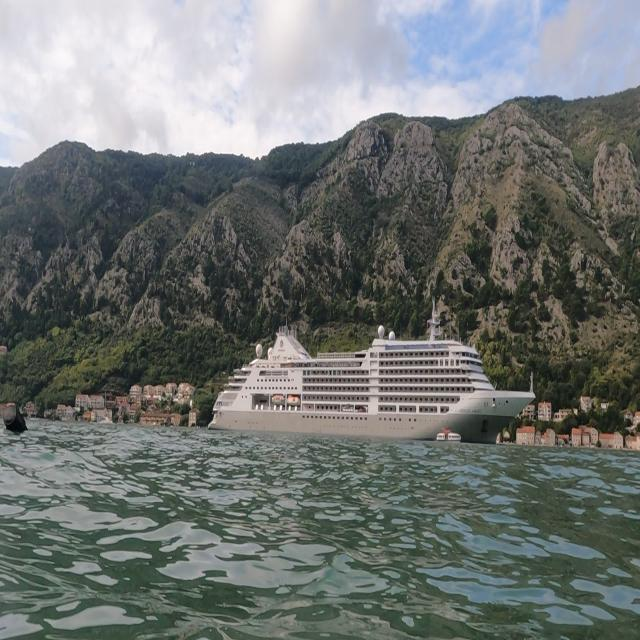boat: (206, 294, 537, 446)
buoy: (0, 397, 35, 441)
